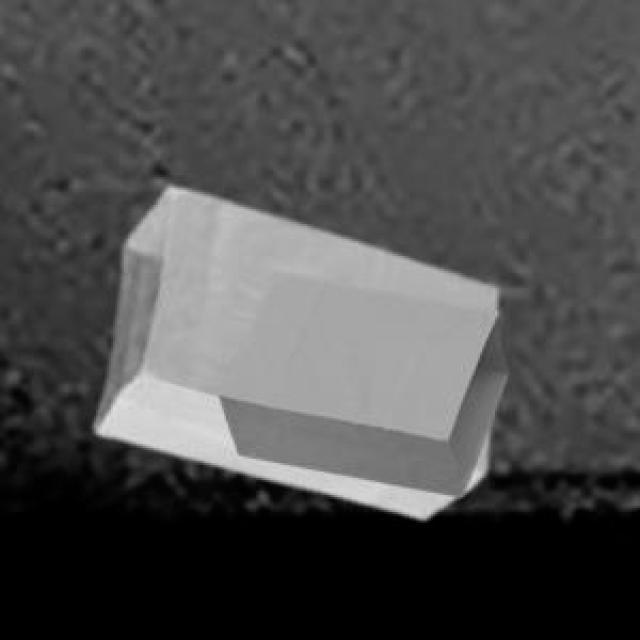paper: (92, 184, 493, 514), (216, 267, 504, 493)
